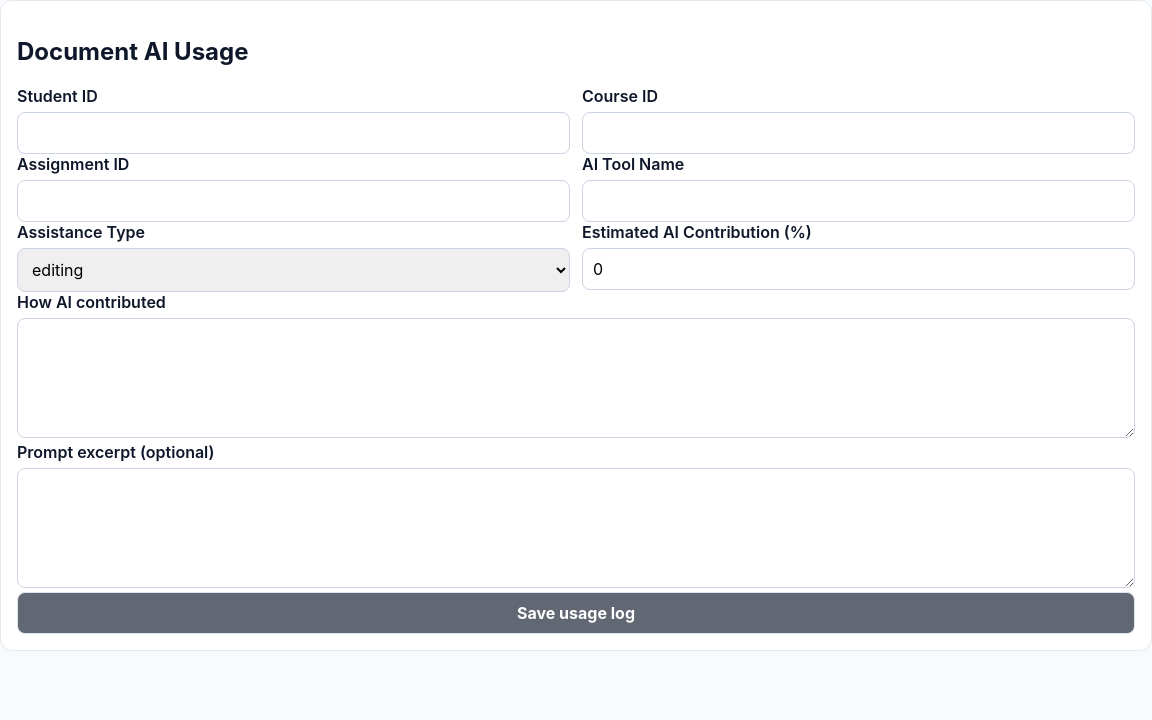
Scenario: UsageLogForm › keeps submit disabled until required fields are completed
Expected: the button "Save usage log" is disabled, [17,592,1135,634]
Step 1. Type "s123" into the field labelled "Student ID" → (294, 133), box [17,112,570,154]
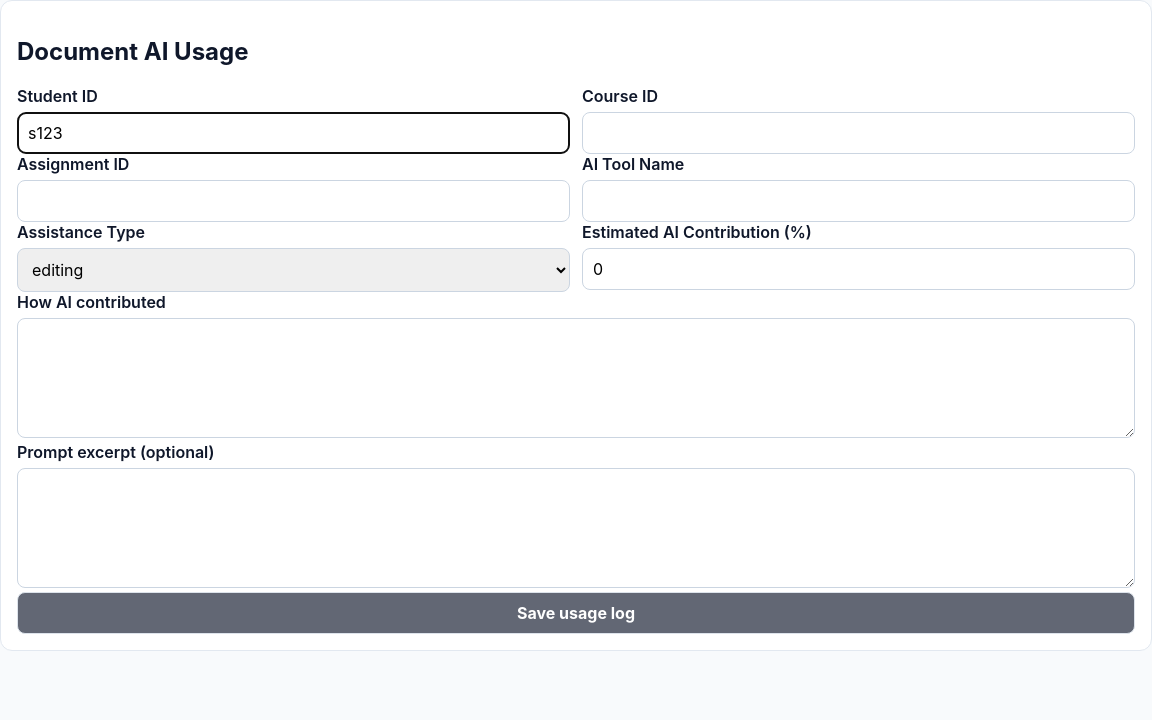
Step 2. Type "TDT4242" into the field labelled "Course ID" → (858, 133), box [582,112,1135,154]
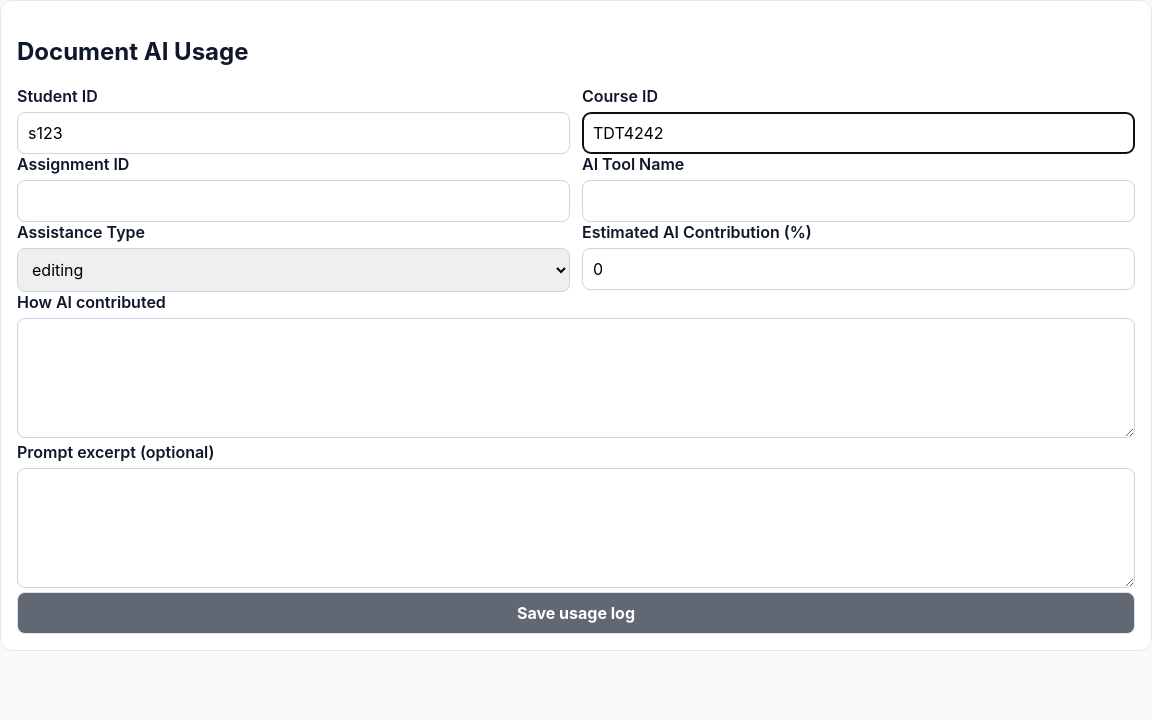
Step 3. Type "2" into the field labelled "Assignment ID" → (294, 201), box [17,180,570,222]
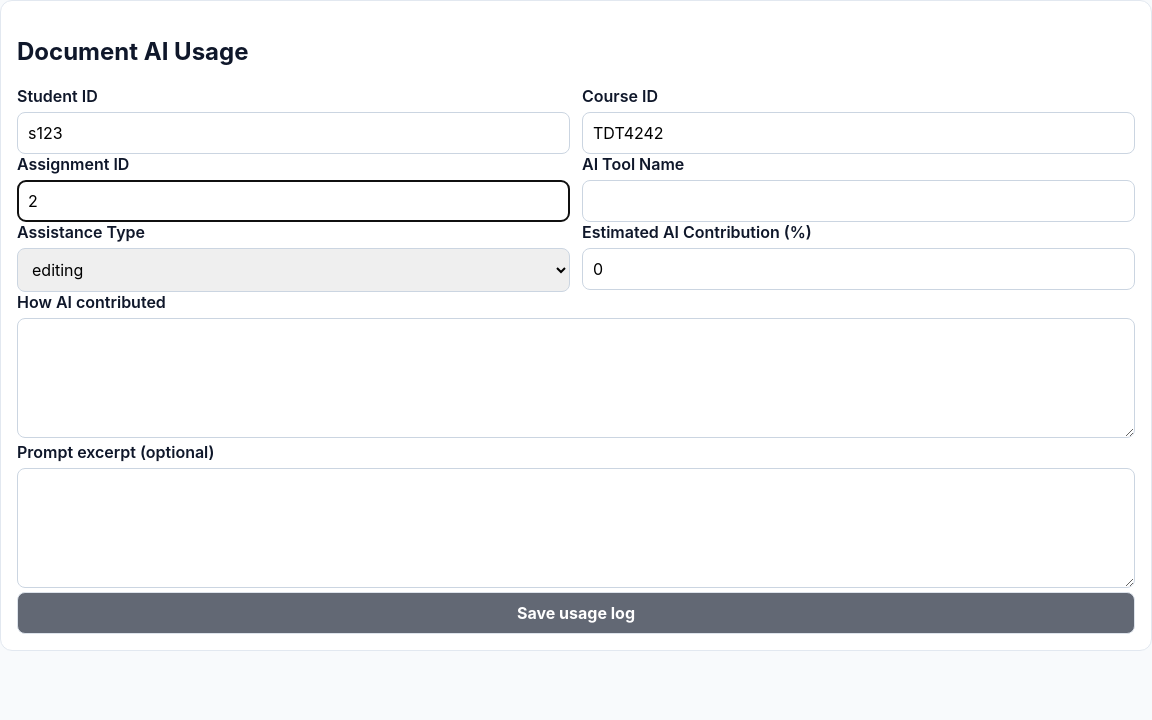
Step 4. Type "ChatGPT" into the field labelled "AI Tool Name" → (858, 201), box [582,180,1135,222]
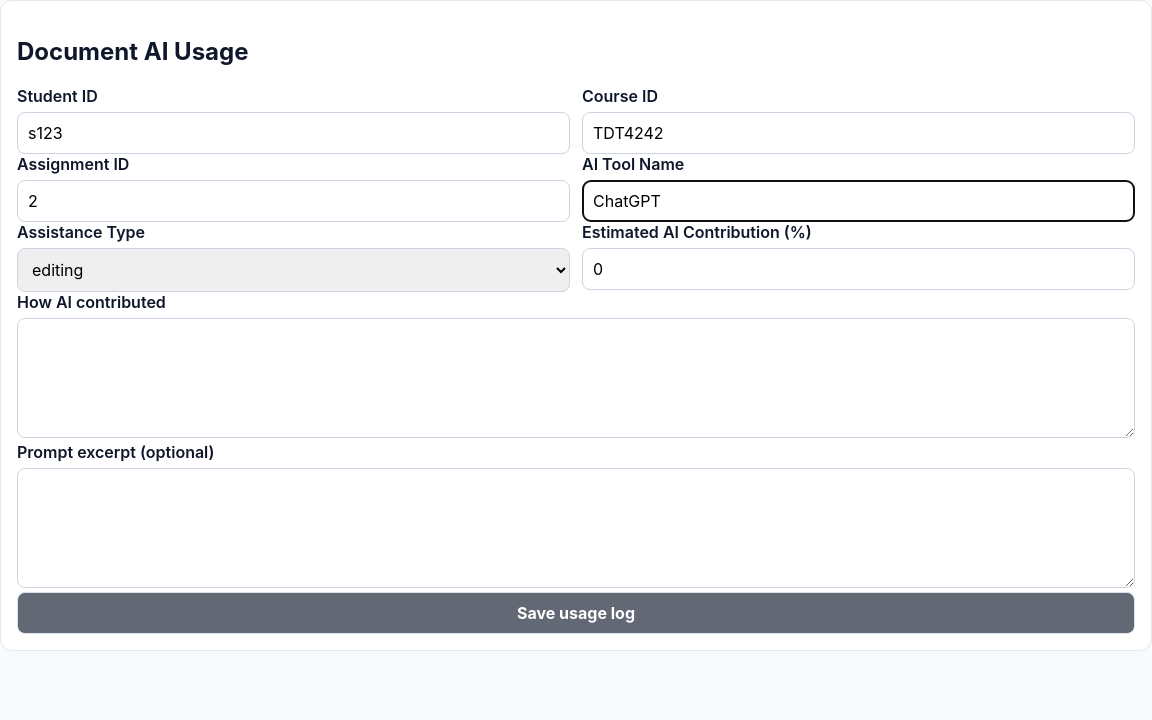
Step 5. Type "Grammar" into the text box labelled "How AI contributed" → (576, 378), box [17,318,1135,438]
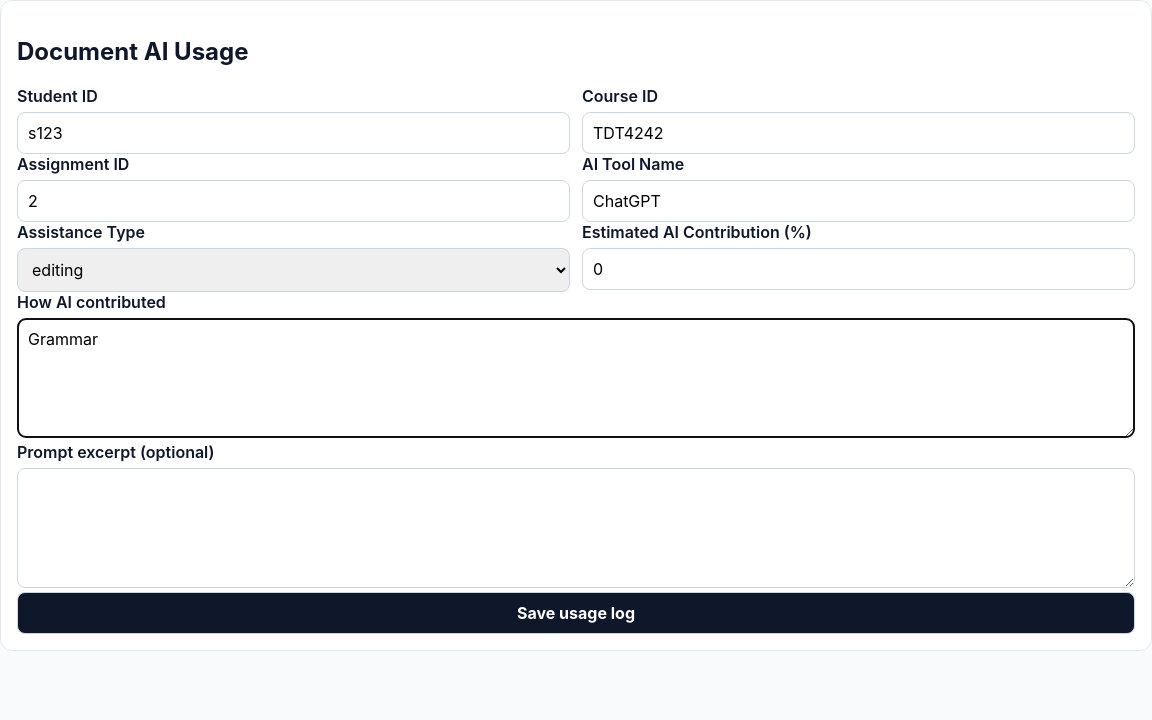
Result: the button "Save usage log" is enabled at [17,592,1135,634]
